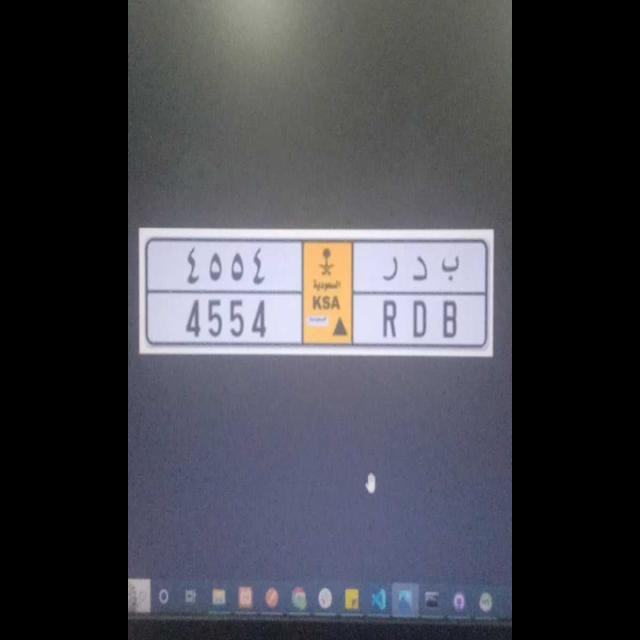license_plate: (143, 291, 488, 352)
